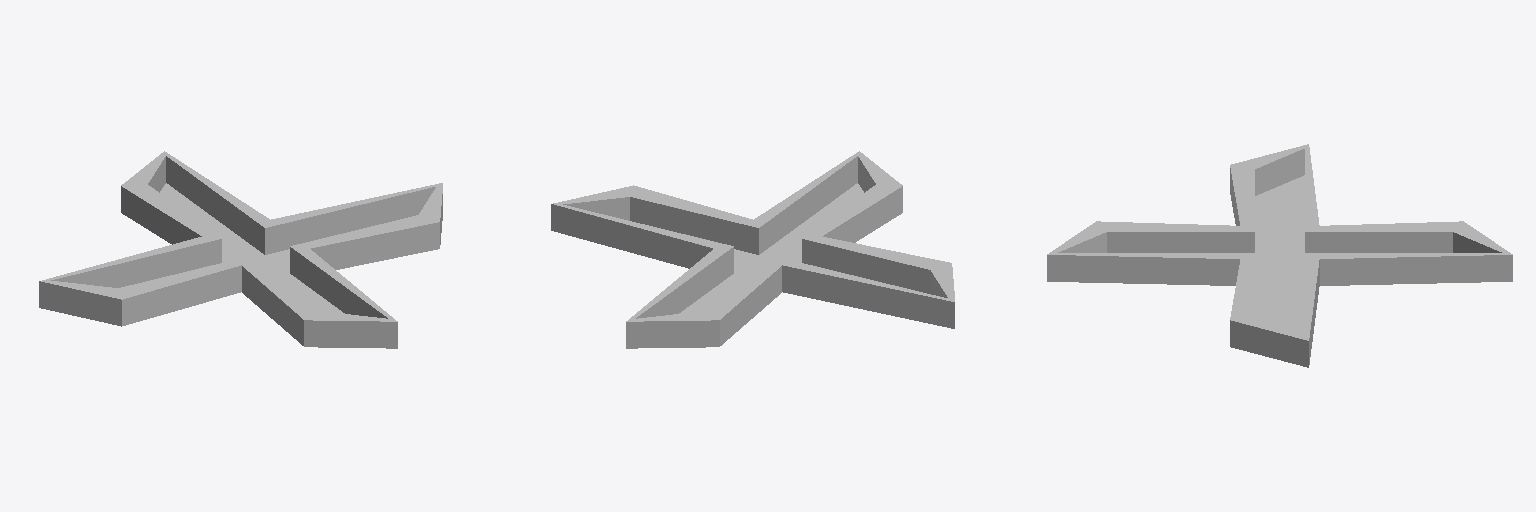
Rendered from TallTopRoof.obj.
3 views of the same model, side by side, from view 1: azimuth 30°, elevation 25°; view 2: azimuth 150°, elevation 25°; view 3: azimuth 270°, elevation 25° (orthographic).
Visible parts, largest first — view 1: TallTopRoof KA_BLDG8_grp KA_BLDG8_Architect; view 2: TallTopRoof KA_BLDG8_grp KA_BLDG8_Architect; view 3: TallTopRoof KA_BLDG8_grp KA_BLDG8_Architect.
Part boxes in pixels (x1,y1,x2,y2): TallTopRoof KA_BLDG8_grp KA_BLDG8_Architect: (39, 151, 442, 348); TallTopRoof KA_BLDG8_grp KA_BLDG8_Architect: (551, 151, 954, 348); TallTopRoof KA_BLDG8_grp KA_BLDG8_Architect: (1047, 144, 1512, 367).
Size of the model in its own units: 1761 by 112 by 1761.